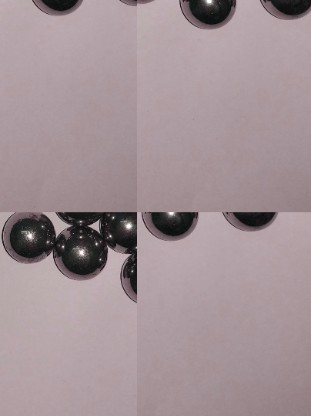ironball: (55, 226, 109, 283), (0, 213, 56, 263), (180, 0, 240, 33), (141, 212, 203, 241), (214, 213, 288, 232), (104, 209, 135, 253), (25, 0, 83, 21), (254, 0, 309, 21), (116, 256, 137, 306)
